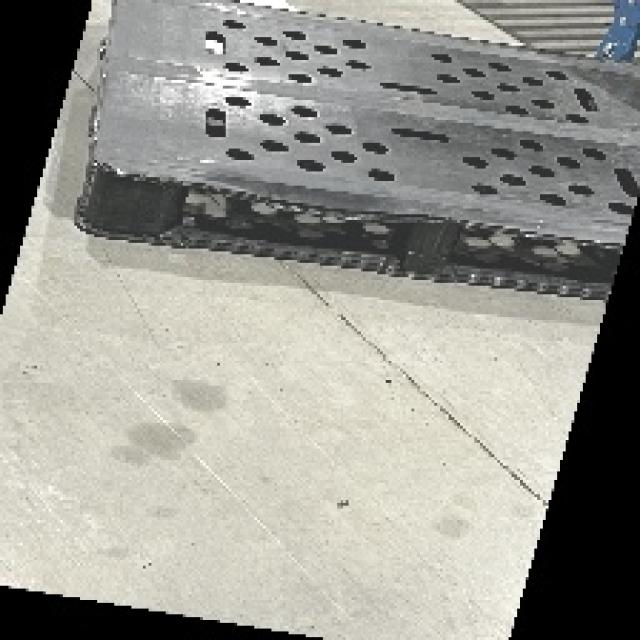igps: (68, 0, 640, 306)
